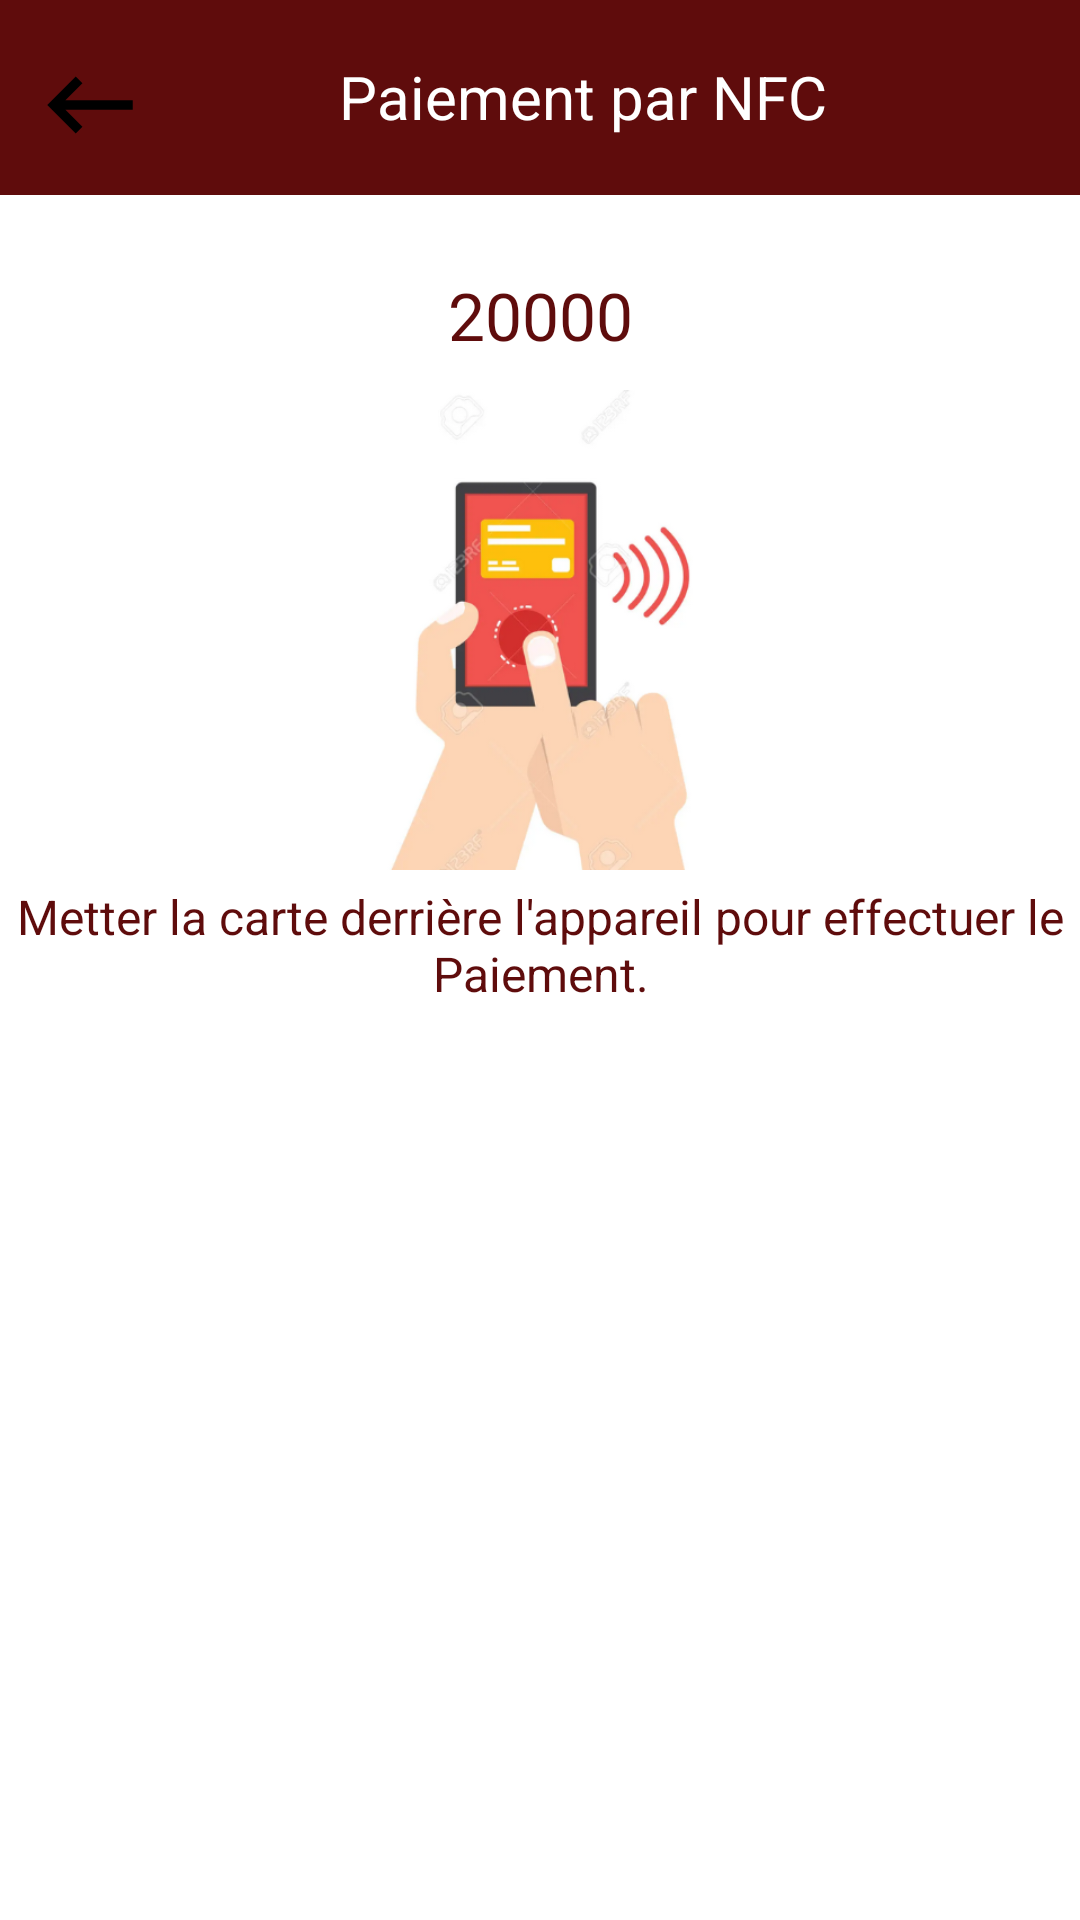

Icons on this 1080 x 1920 Android screen, each with its box as box=[x1, y1, x2, y2]:
Retour: box=[47, 77, 133, 133]
